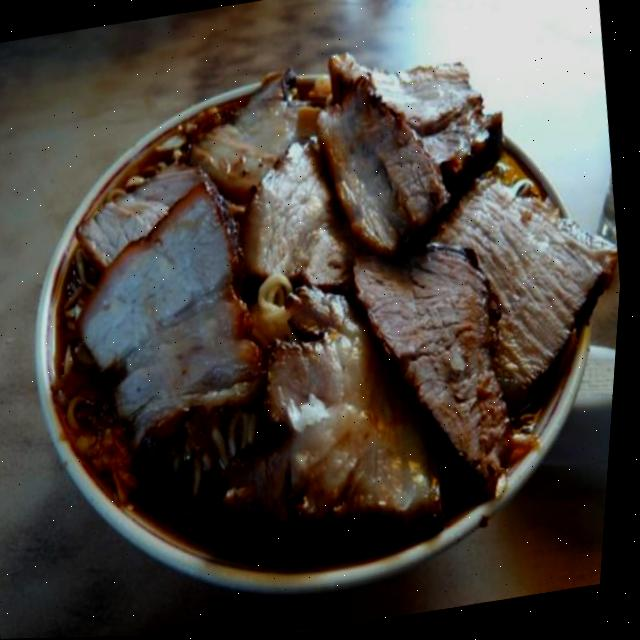面条主食: (6, 9, 639, 631)
